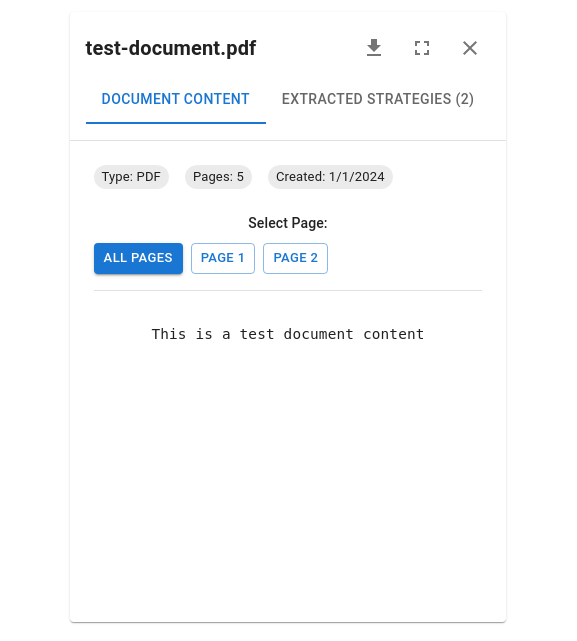
DocumentViewer › should display confidence scores with appropriate colors
Click the tab "Extracted Strategies (2)": (378, 100) [266, 76, 490, 124]
(page scrolled)
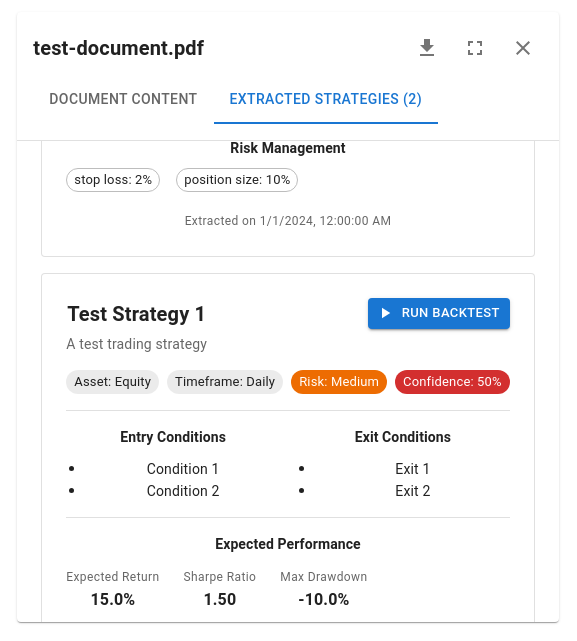
Result: the text "Confidence: 50%" is shown at [395, 372, 510, 392]
